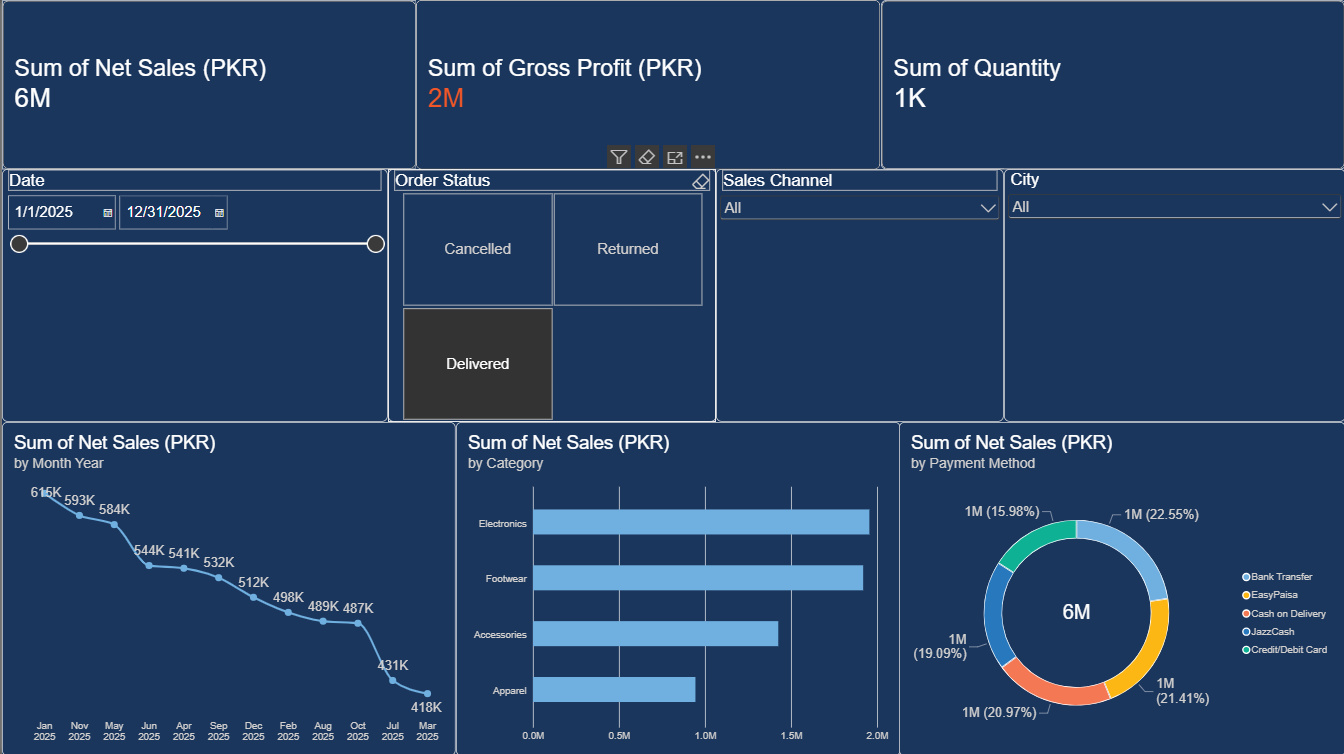

Layout of this report page (visuals, bound fields, positions):
{"tool":"powerbi","page":{"name":"Page 1","canvas":[1920,1080],"ordinal":0},"visuals":[{"type":"cardVisual","fields":{"Data":["Sum(Orders.Net Sales (PKR))"]},"box":[0,0,592.3,242.3],"z":0},{"type":"cardVisual","fields":{"Data":["Sum(Orders.Gross Profit (PKR))"]},"box":[591.4,0,663.8,242.2],"z":1000},{"type":"cardVisual","fields":{"Data":["Sum(Orders.Quantity)"]},"box":[1256.2,0,663.8,242.2],"z":2000},{"type":"lineChart","fields":{"Category":["DateTable.Month Year"],"Y":["Sum(Orders.Net Sales (PKR))"]},"box":[0,602.6,647.8,477.1],"z":3000},{"type":"clusteredBarChart","fields":{"Category":["Products.Category"],"Y":["Sum(Orders.Net Sales (PKR))"]},"box":[648,602.7,634.7,477.1],"z":4000},{"type":"donutChart","fields":{"Category":["Orders.Payment Method"],"Y":["Sum(Orders.Net Sales (PKR))"]},"box":[1282,603,638,477],"z":5000},{"type":"slicer","fields":{"Values":["Orders.Sales Channel"]},"box":[1020,241.4,411.4,361.4],"z":6000},{"type":"slicer","fields":{"Values":["Orders.City"]},"box":[1432,242,488,361],"z":7000},{"type":"slicer","fields":{"Values":["Orders.Order Status"]},"box":[551,242,469,361],"z":8000},{"type":"slicer","fields":{"Values":["DateTable.Date"]},"box":[0,242,551,361],"z":9000}]}

Visuals, with their boxes in screenshot pixels (x1, y1, x2, y2), scaled from the page's 1920x1080 canvas onto the 1344x754 screenshot:
cardVisual - Sum(Orders.Net Sales (PKR)): x1=0, y1=0, x2=415, y2=169
cardVisual - Sum(Orders.Gross Profit (PKR)): x1=414, y1=0, x2=879, y2=169
cardVisual - Sum(Orders.Quantity): x1=879, y1=0, x2=1343, y2=169
lineChart - DateTable.Month Year x Sum(Orders.Net Sales (PKR)): x1=0, y1=421, x2=453, y2=753
clusteredBarChart - Products.Category x Sum(Orders.Net Sales (PKR)): x1=454, y1=421, x2=898, y2=753
donutChart - Orders.Payment Method x Sum(Orders.Net Sales (PKR)): x1=897, y1=421, x2=1343, y2=753
slicer - Orders.Sales Channel: x1=714, y1=169, x2=1002, y2=421
slicer - Orders.City: x1=1002, y1=169, x2=1343, y2=421
slicer - Orders.Order Status: x1=386, y1=169, x2=714, y2=421
slicer - DateTable.Date: x1=0, y1=169, x2=386, y2=421
